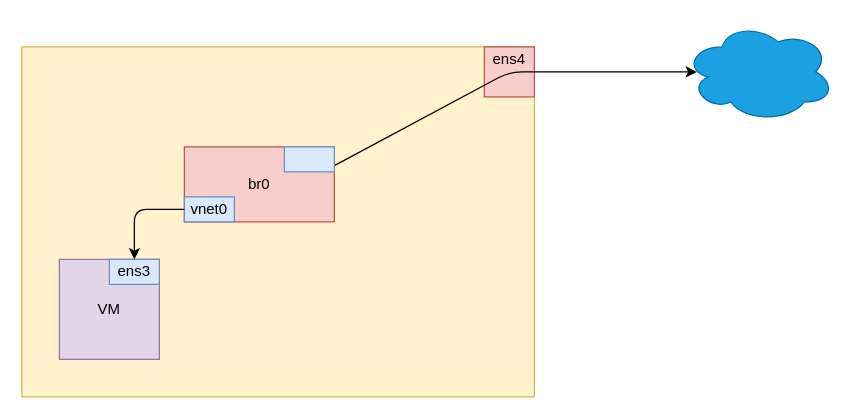
Some shapes in this 856 by 419 pixel diagram are drawn without their labels. Here are the shapes that lost their labels. From the top down, the centre of each, then its label:
At pixel 758 71: "Internet".
At pixel 308 159: "uplink port".
